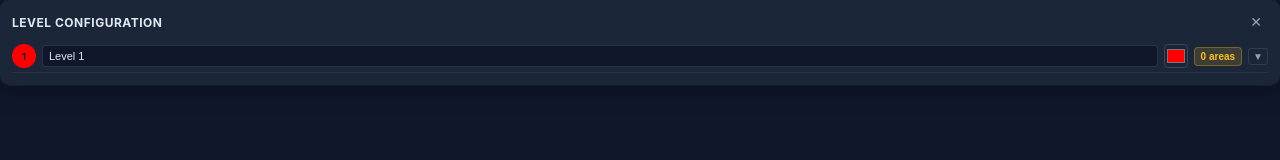
Scenario: LevelConfigPanel › Interactions › should show "No areas available" when no areas
This screenshot has width=1280, height=160.
Click the button titled "Select areas" at (1258, 56), box x1=1248 y1=48 x2=1268 y2=64
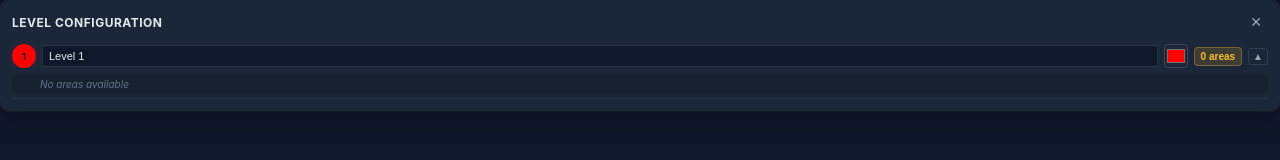
Check: the text "No areas available" is shown, box x1=40 y1=78 x2=129 y2=90
